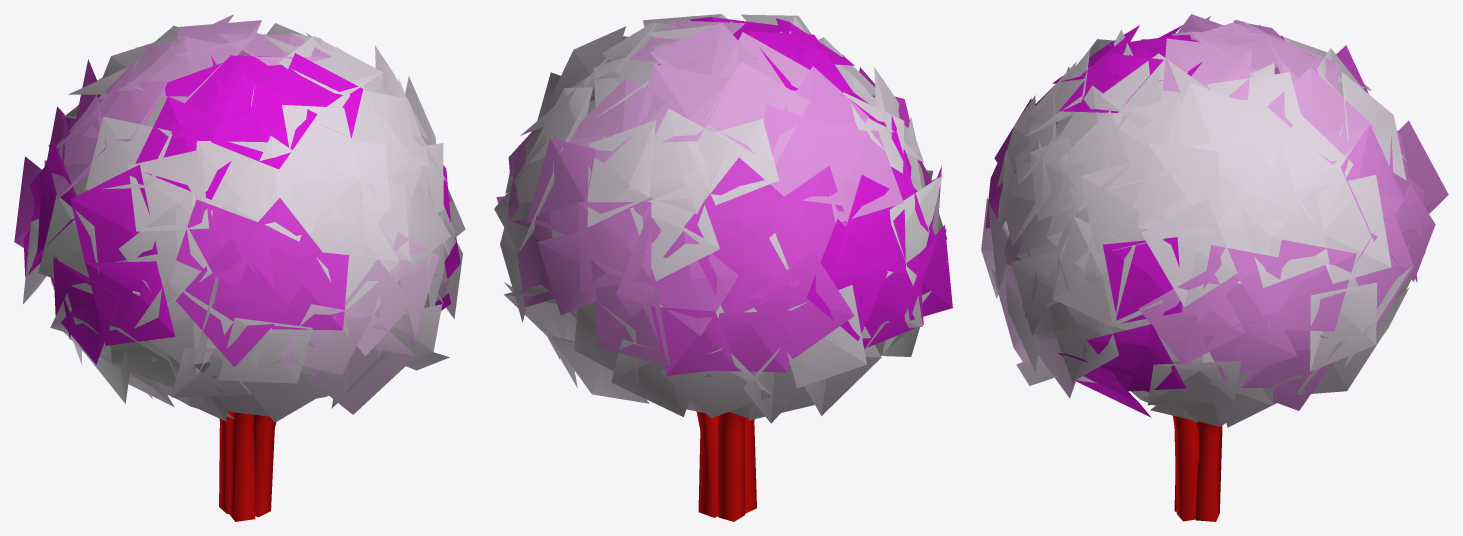
The model's file is G_Evergreen_001_S1.fbx.
The picture shows the model from 3 angles, left to right: view 1: azimuth 30°, elevation 25°; view 2: azimuth 150°, elevation 25°; view 3: azimuth 270°, elevation 25°; orthographic projection. The views are drawn at different scales.
Parts seen in each view (by area): view 1: G_Evergreen_001_S1_P01_LOD0; view 2: G_Evergreen_001_S1_P01_LOD0; view 3: G_Evergreen_001_S1_P01_LOD0.
Boxes of the visible parts, x1,y1,x2,y2 form: G_Evergreen_001_S1_P01_LOD0: (14, 14, 465, 521); G_Evergreen_001_S1_P01_LOD0: (494, 14, 952, 521); G_Evergreen_001_S1_P01_LOD0: (981, 14, 1448, 521).
Size of what is drawn, in the model's own units: 183 by 215 by 189.
